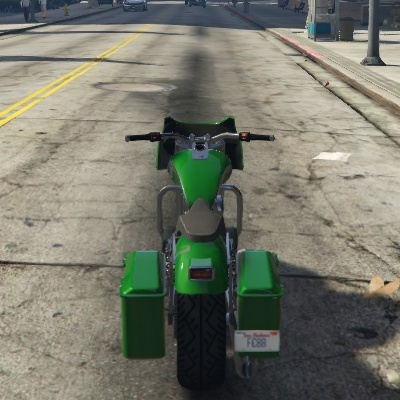off: (183, 254, 221, 290)
